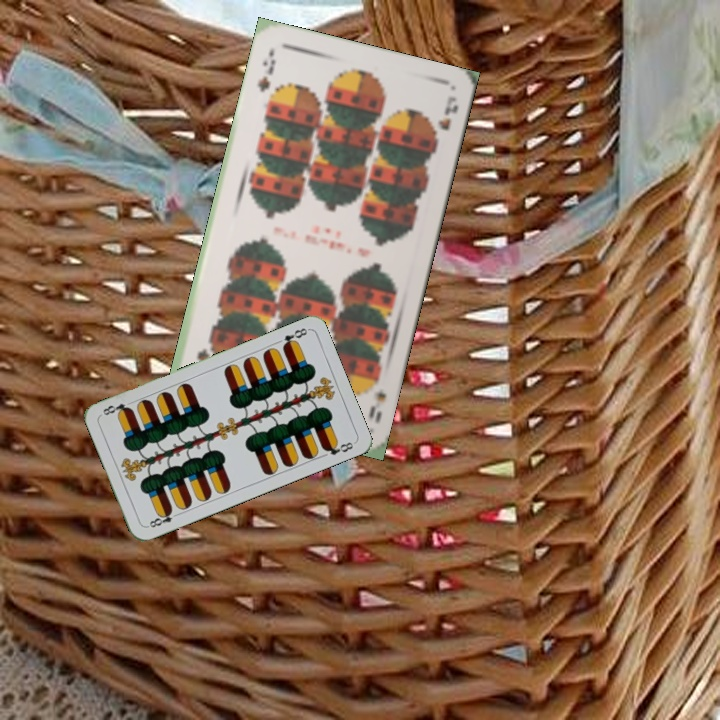E8: (143, 505, 182, 530), (278, 324, 311, 351)
S9: (364, 384, 389, 426), (254, 55, 278, 94)
